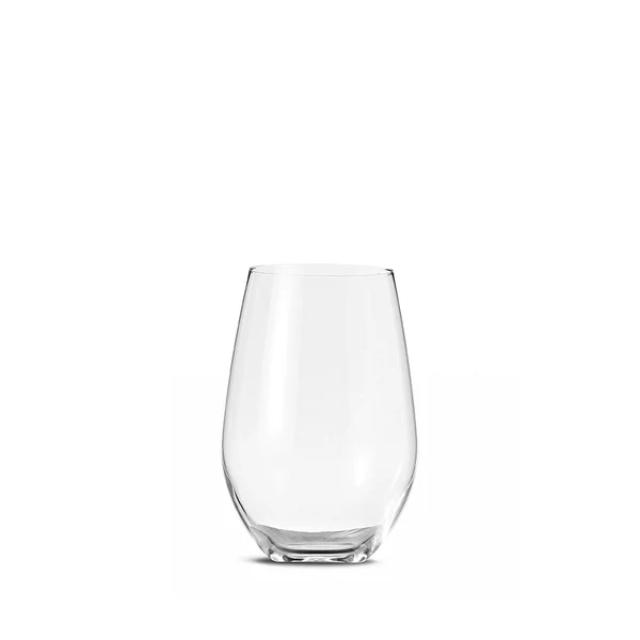Cup: (218, 258, 420, 572)
